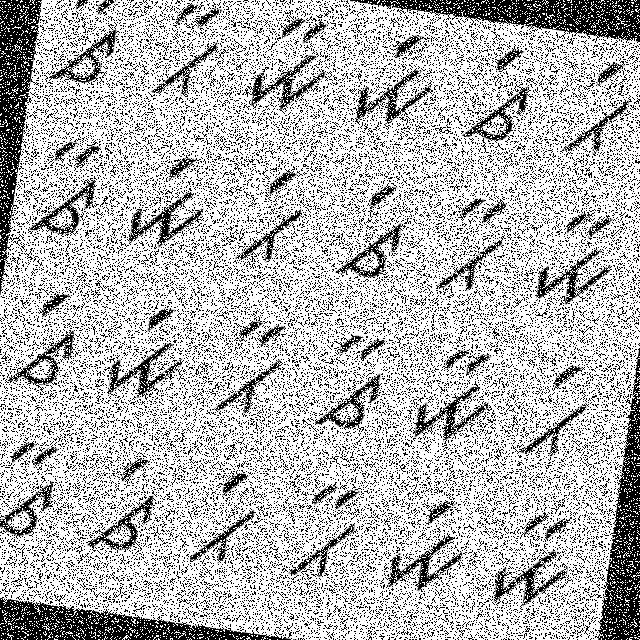ban: (204, 312, 292, 432), (284, 472, 366, 594), (429, 188, 512, 302), (145, 0, 229, 104)
bang: (510, 358, 598, 472), (182, 464, 266, 579), (555, 53, 638, 165), (230, 162, 311, 275)
can: (20, 133, 110, 248), (308, 330, 398, 440), (0, 424, 70, 547), (43, 0, 134, 93)
cang: (0, 283, 89, 398), (76, 448, 168, 558), (330, 174, 414, 288), (454, 41, 542, 148)
man: (403, 334, 502, 452), (529, 199, 623, 315), (242, 9, 340, 117), (484, 502, 580, 612)
mang: (115, 148, 222, 261), (97, 292, 197, 408), (376, 492, 474, 602), (349, 26, 442, 133)
